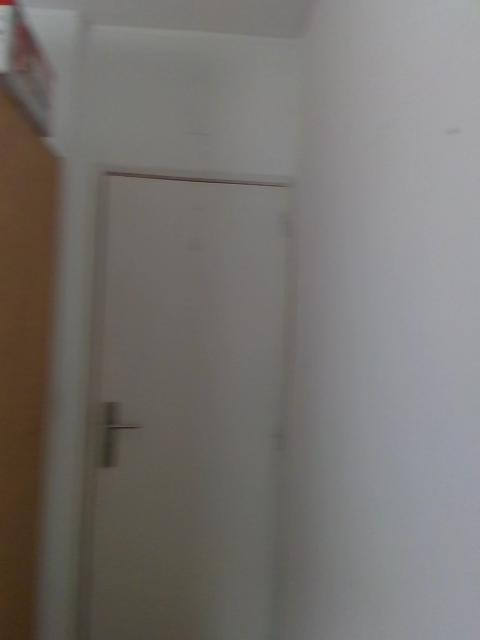door: (92, 176, 285, 640)
